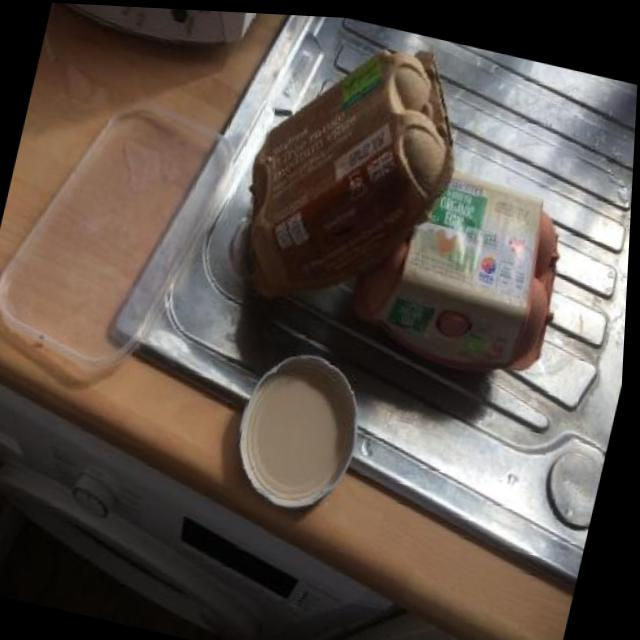cardboard: (221, 12, 484, 336), (340, 152, 582, 388)
metal: (221, 340, 377, 524)
plastic: (0, 74, 247, 396)
